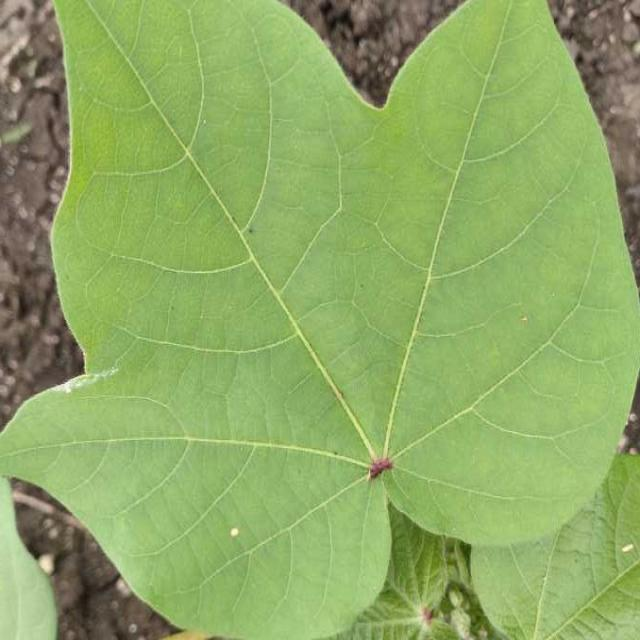Healthy Leaf: (99, 49, 325, 534)
